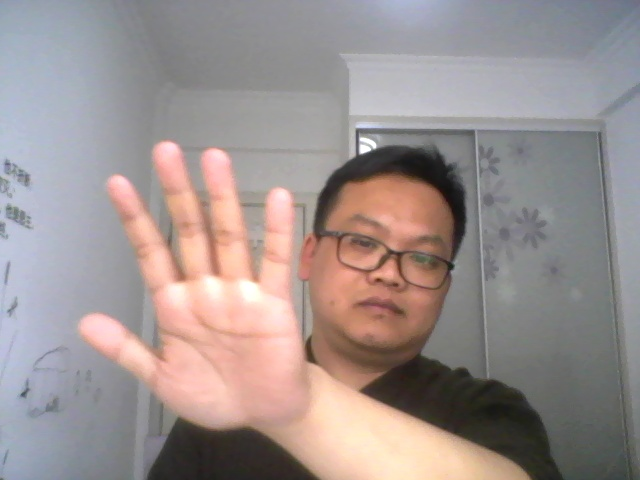Hello: (71, 133, 317, 446)
